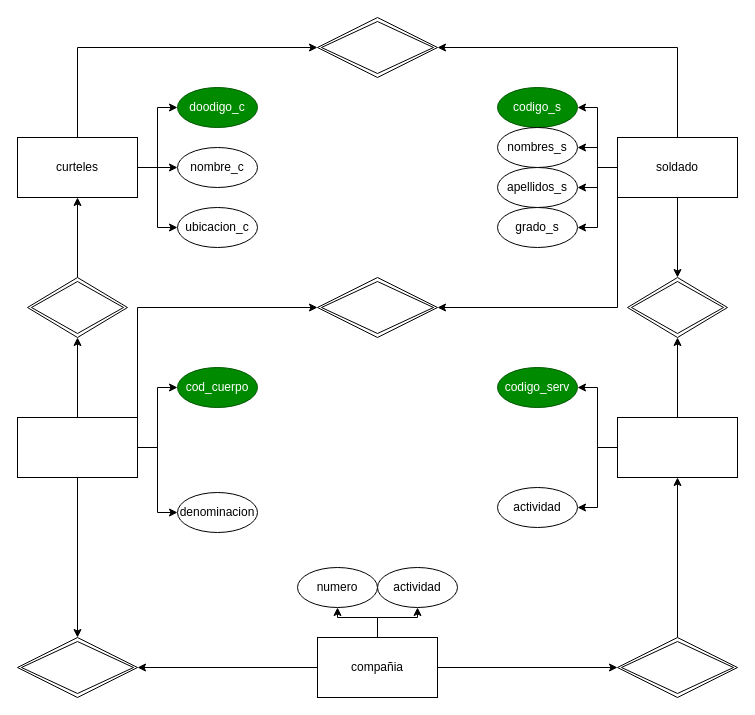
The diagram is 755 pixels wide and 715 high, and some of its shapes have lost their labels. Here are the shapes that lost their labels. From the top down, the centre of each, then its label:
the point at 377,47: lugar soldado
the point at 77,307: C_denom_S
the point at 377,307: denominacion_s
the point at 677,307: actividad_S
the point at 77,447: cuerpo_E
the point at 677,447: servicio
the point at 77,667: actividad_C
the point at 677,667: Relationship
